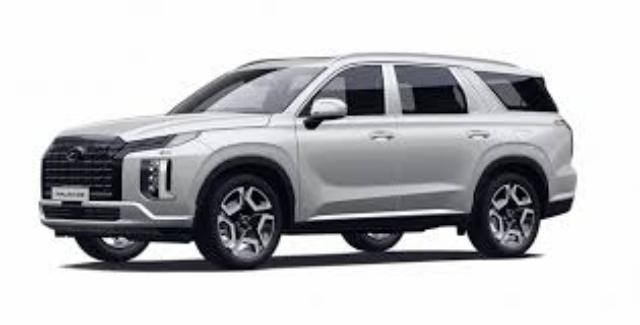hyundai: (39, 52, 578, 270)
